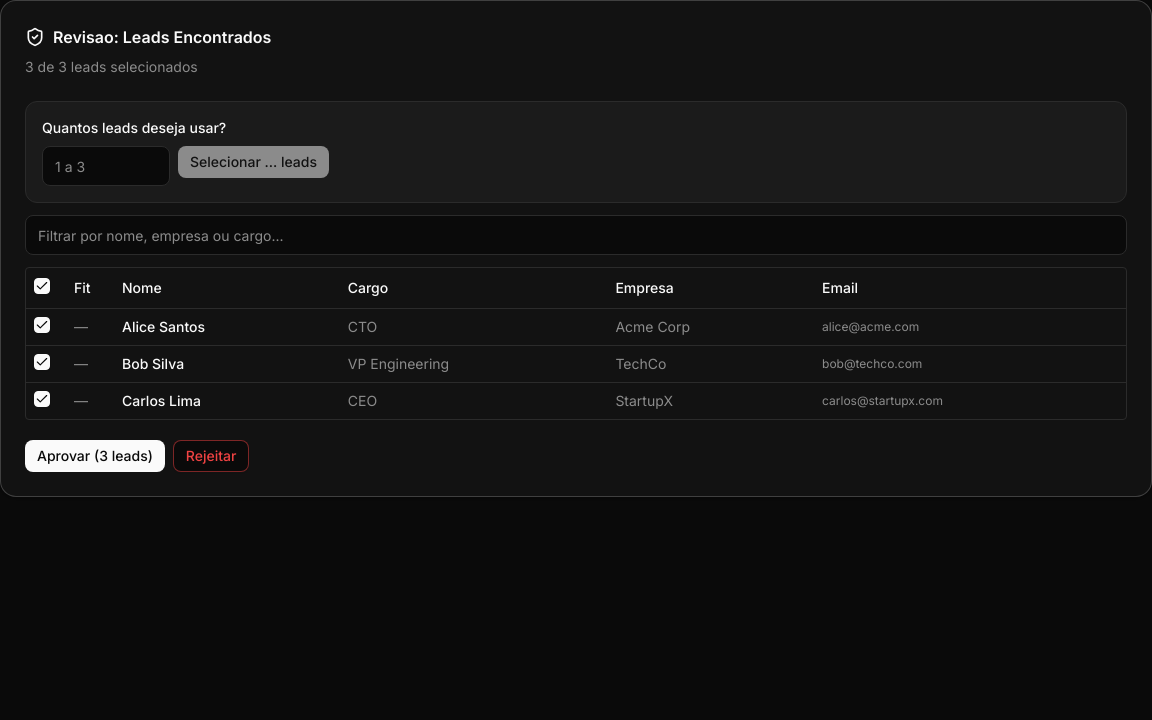
Test: AgentLeadReview (AC: #3, #4) › updates counter when leads are deselected (9.18)
// Click Alice's checkbox to deselect
Click the checkbox named "Selecionar Alice Santos" at coordinates (42, 324), box [34,316,50,332]
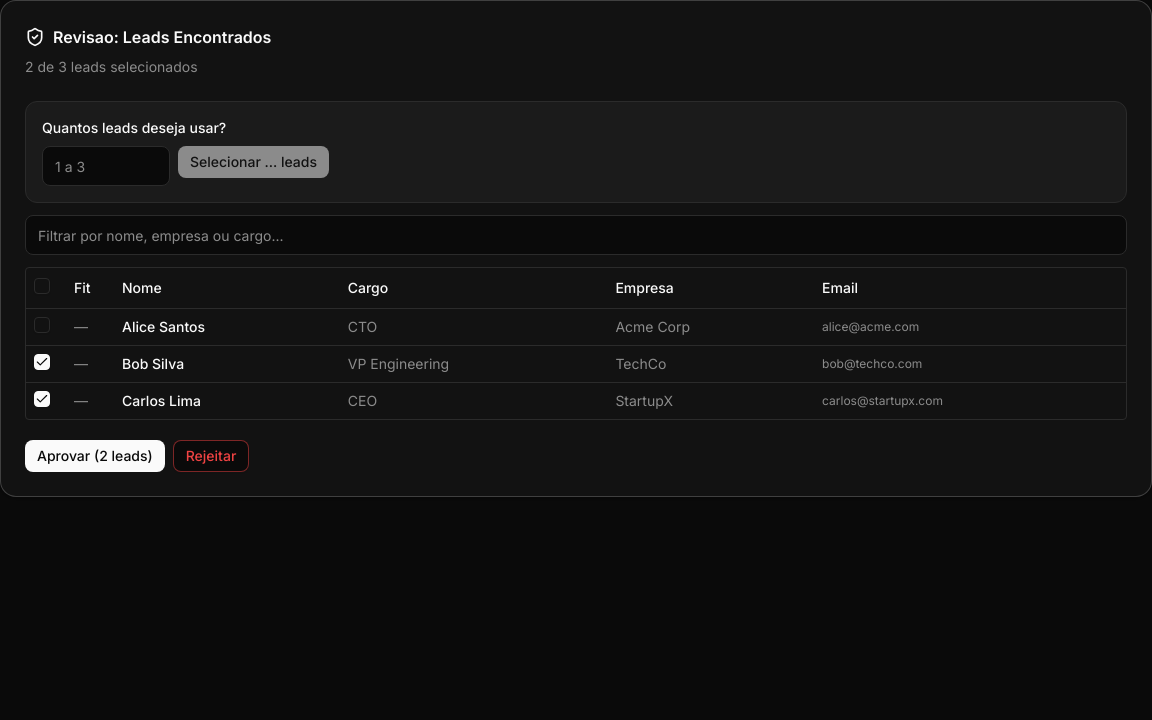
Check: the text "2 de 3 leads selecionados" is shown, box [25,58,198,75]
Check: the button "Aprovar (2 leads)" is shown, box [25,440,165,472]
